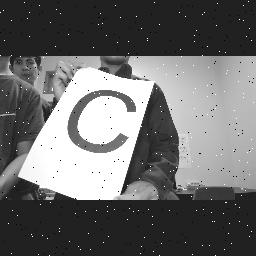c: (64, 86, 138, 154)
